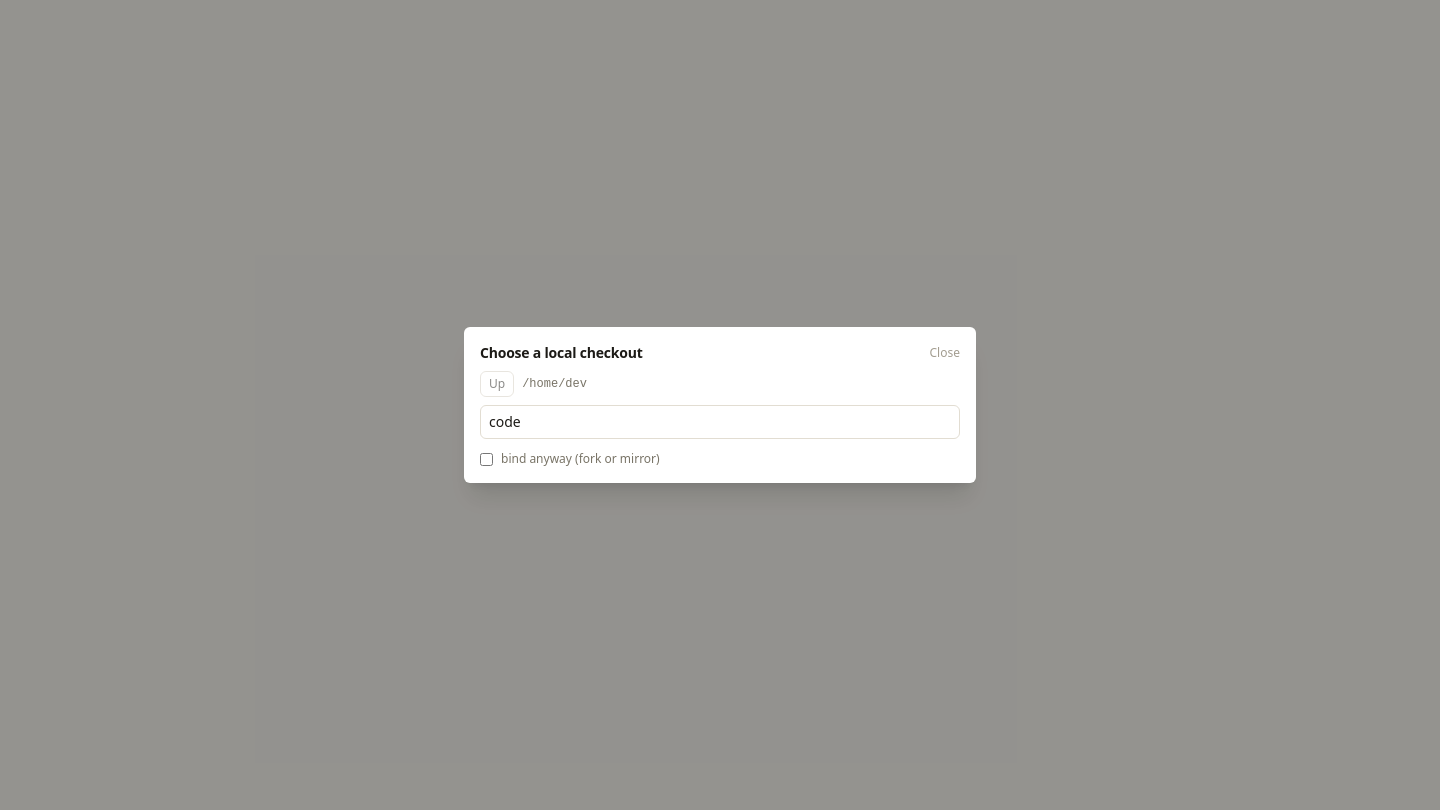
it: CheckoutPicker › renders a git entry with its annotation line, a matches mark, and a clone-of reason for a non-matching repo
Click the button "code".
click(505, 422)  # box [489, 412, 521, 432]
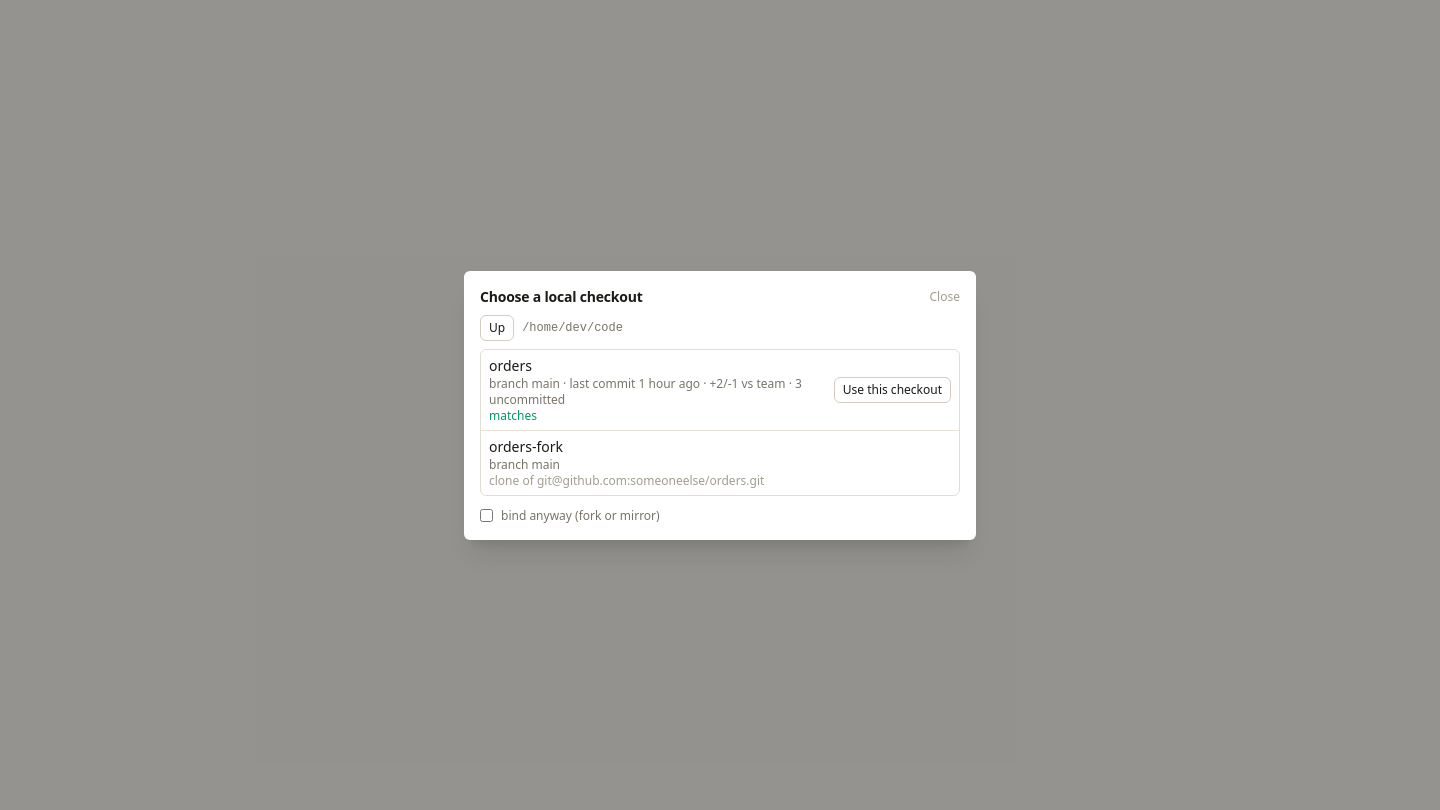
Expected: the text "branch main · last commit 1 hour ago · +2/-1 vs team · 3 uncommitted" is shown, [489, 376, 826, 408]
Expected: the text "matches" is shown, [489, 406, 537, 424]
Expected: the text "clone of git@github.com:someoneelse/orders.git" is shown, [489, 472, 764, 488]
